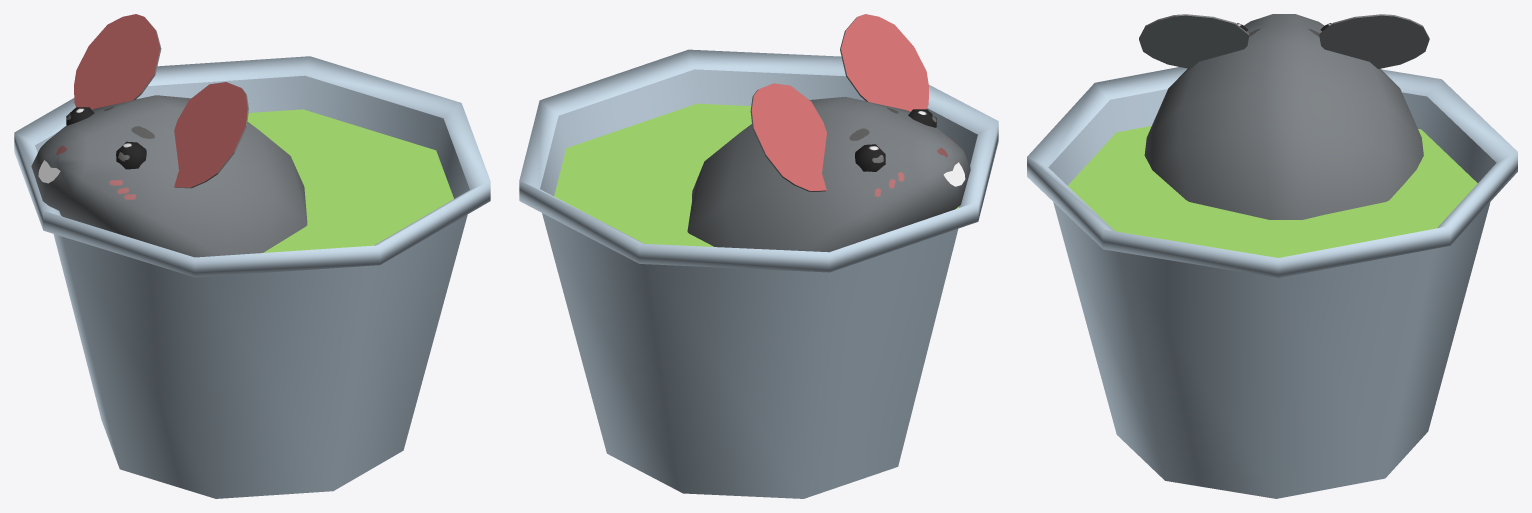
Rendered from Sewer Juice.fbx.
3 renders of one model, left to right at view 1: azimuth 30°, elevation 25°; view 2: azimuth 150°, elevation 25°; view 3: azimuth 270°, elevation 25°, orthographic.
Visible parts, largest first — view 1: Cylinder.005; view 2: Cylinder.005; view 3: Cylinder.005.
Part boxes in pixels (left/top/right/bottom): Cylinder.005: left=14, top=14, right=490, bottom=498; Cylinder.005: left=519, top=14, right=998, bottom=498; Cylinder.005: left=1027, top=14, right=1517, bottom=498.
Size of the model in its own units: 42.55 by 37.54 by 42.55.
